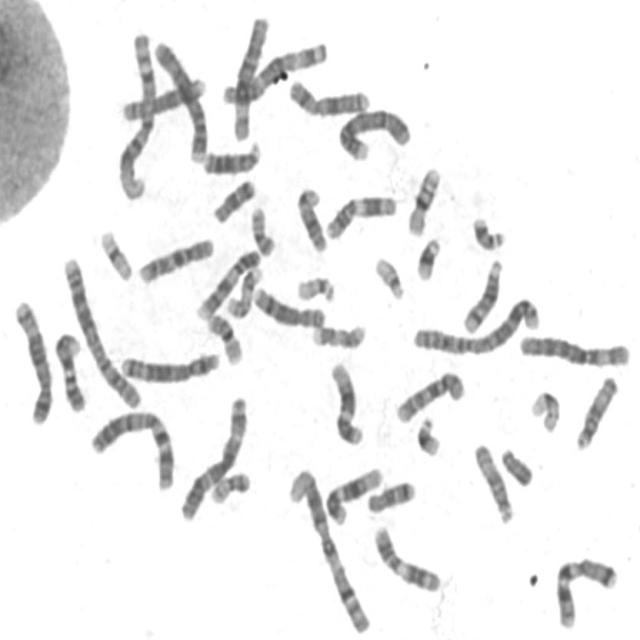A1: (283, 460, 373, 636), (112, 24, 160, 204)
A2: (58, 249, 144, 412), (406, 289, 543, 358)
A3: (174, 388, 250, 522), (218, 34, 330, 106)
B4: (149, 34, 210, 163), (333, 101, 413, 163)
B5: (9, 292, 55, 426), (115, 344, 222, 385)
C10: (390, 363, 468, 425), (133, 230, 216, 286)
C11: (368, 518, 444, 594), (320, 187, 399, 241)
C12: (321, 459, 385, 526), (326, 355, 366, 447)
C6: (228, 8, 272, 143), (515, 326, 633, 370)
C7: (84, 396, 186, 494), (549, 549, 620, 631)
C8: (116, 67, 208, 124), (250, 280, 328, 330)
C9: (191, 242, 264, 322), (49, 324, 88, 414)
D13: (197, 135, 263, 177), (462, 213, 512, 252)
D14: (458, 252, 505, 336), (292, 180, 329, 254)
D15: (469, 436, 516, 526), (571, 369, 621, 453)
E16: (402, 160, 444, 238), (203, 307, 245, 367)
E17: (221, 260, 264, 319), (307, 317, 368, 351)
E18: (208, 172, 258, 225), (363, 474, 418, 515)
F19: (94, 221, 136, 283), (526, 383, 562, 434)
F20: (205, 464, 252, 505), (246, 199, 278, 258)
G21: (411, 230, 444, 282), (412, 410, 443, 458)
G22: (370, 249, 407, 301), (292, 269, 338, 304)
X: (284, 72, 372, 118)
Y: (497, 440, 535, 489)
